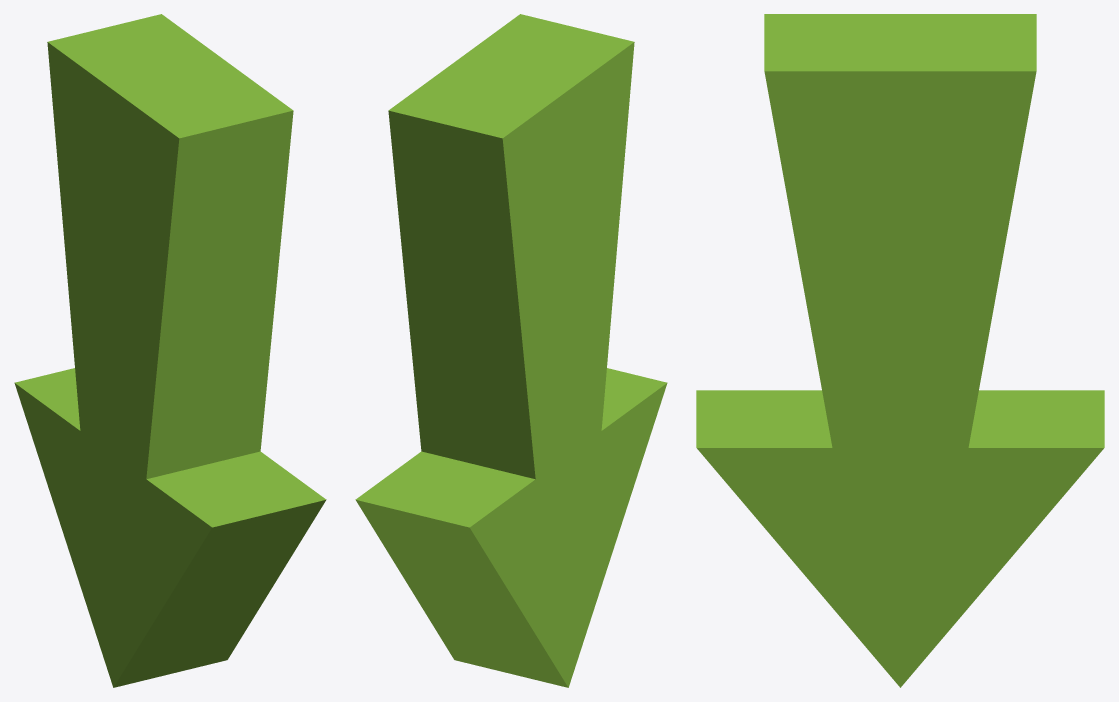
Rendered from fleche_verte.glb.
3 renders of one model, left to right at view 1: azimuth 30°, elevation 25°; view 2: azimuth 150°, elevation 25°; view 3: azimuth 270°, elevation 25°, orthographic. The views are drawn at different scales.
Parts seen in each view (by area): view 1: Cube.002; view 2: Cube.002; view 3: Cube.002.
Boxes of the visible parts, x1,y1,x2,y2 form: Cube.002: (14, 14, 326, 687); Cube.002: (355, 14, 667, 687); Cube.002: (696, 14, 1104, 687).
Size of the model in its own units: 1.72 by 8.62 by 5.17.
Materials: 1 (1 with a texture image).
